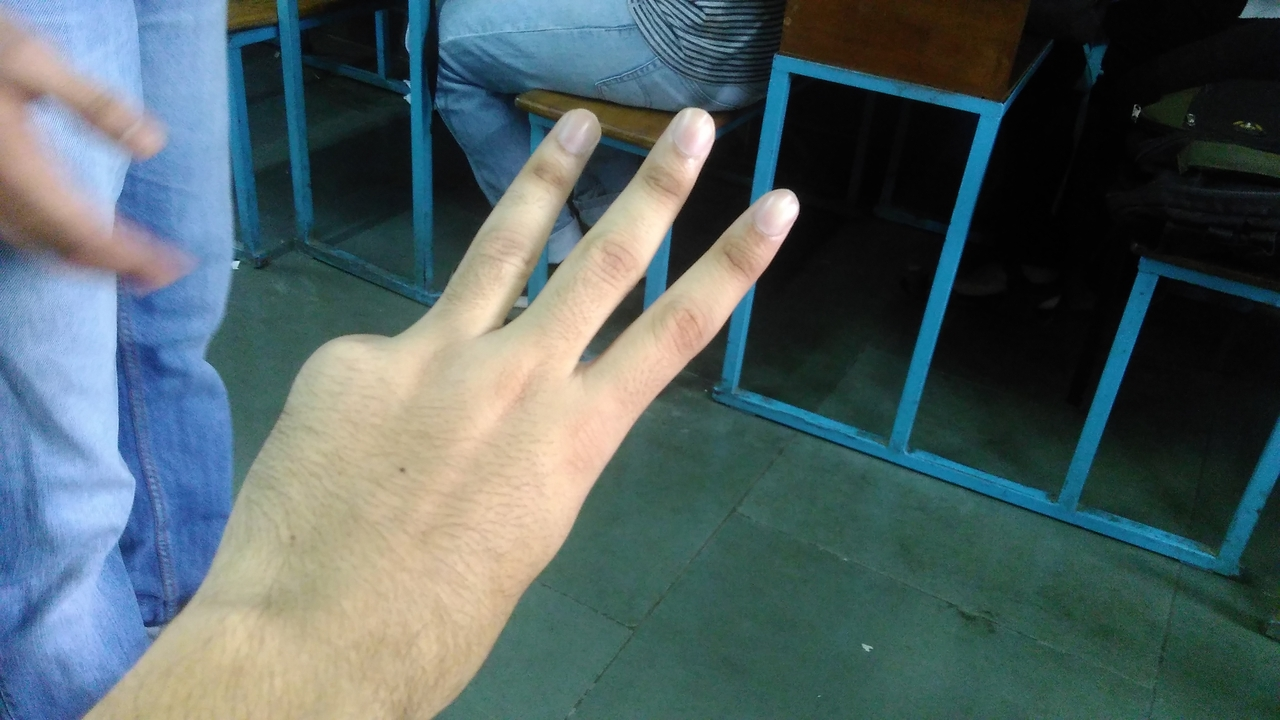fingertip: (650, 94, 724, 162), (538, 96, 612, 164), (736, 176, 812, 242)
